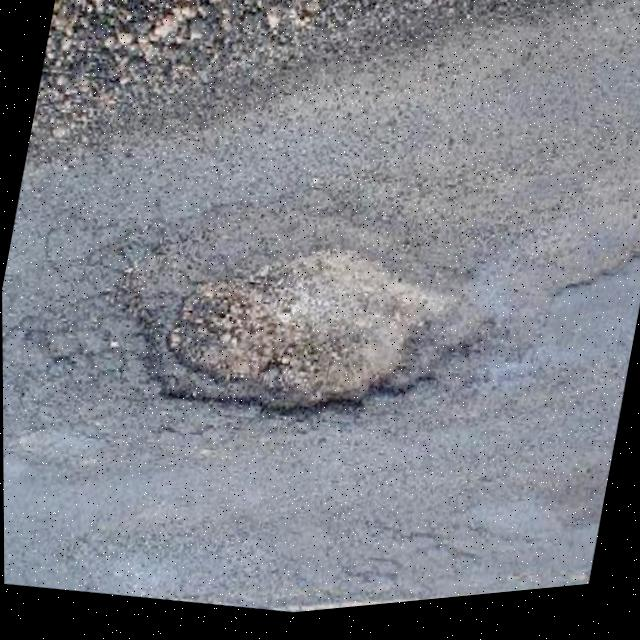Pothole: (99, 191, 507, 484)
